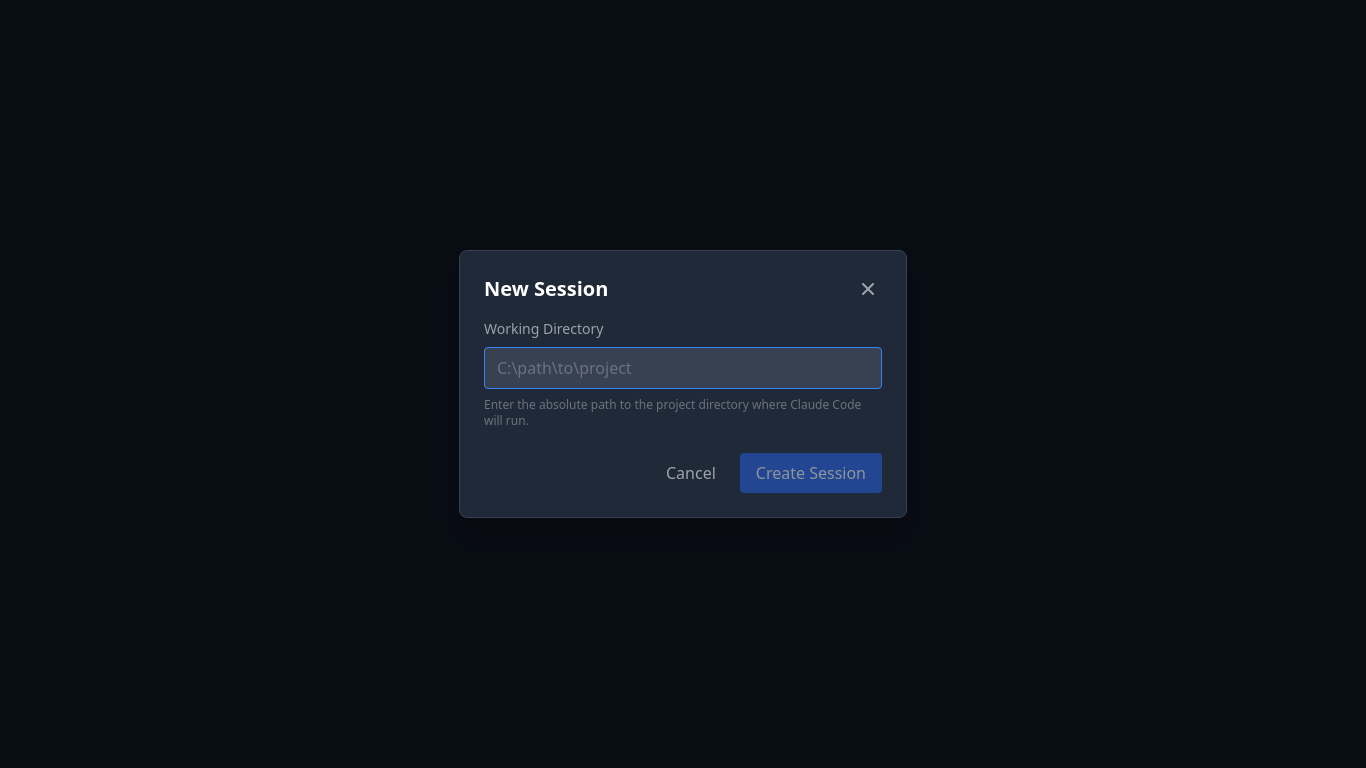
NewSessionModal › should enable Create Session button when input has value
Type "/path/to/project" into the field with placeholder "C:\\path\\to\\project".
click(683, 368); type("/path/to/project")  # box [484,347,882,389]
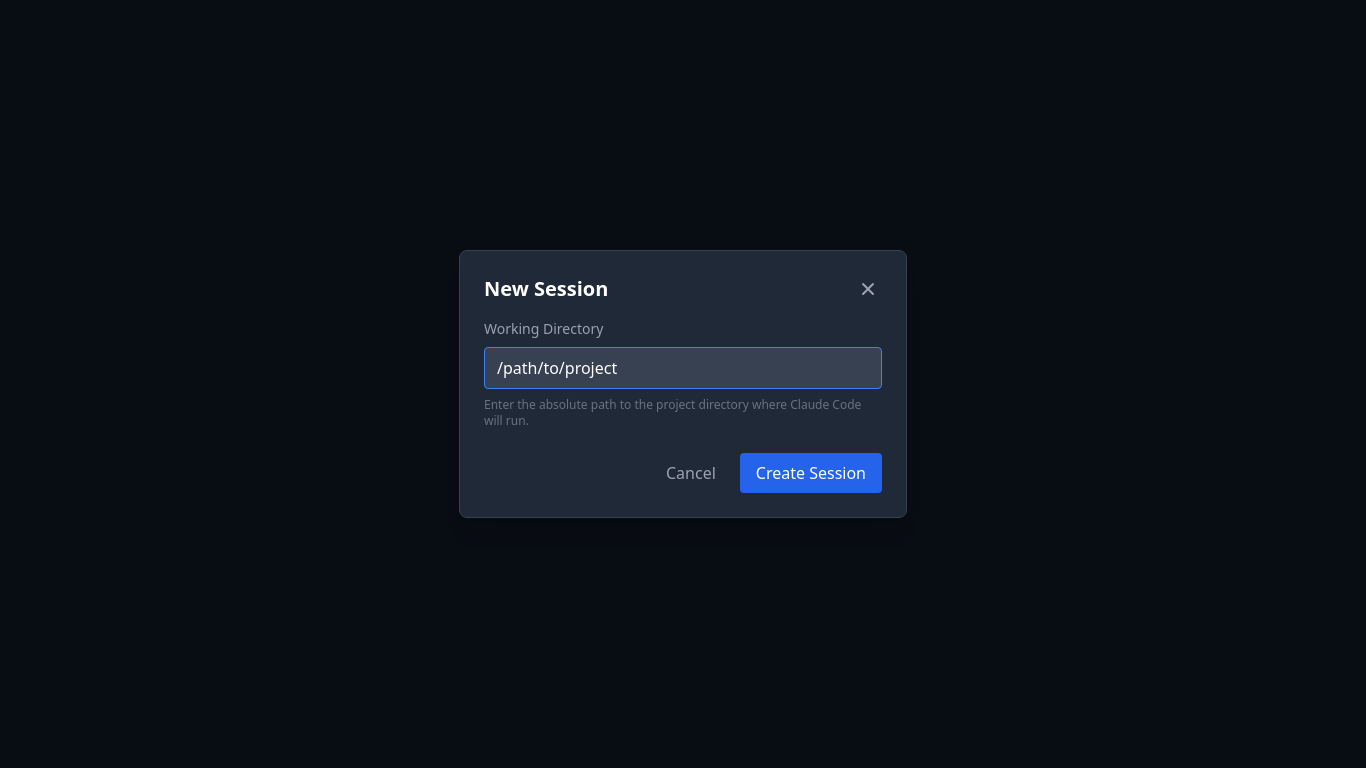
Expected: the button "Create Session" is enabled, [740,453,882,493]
